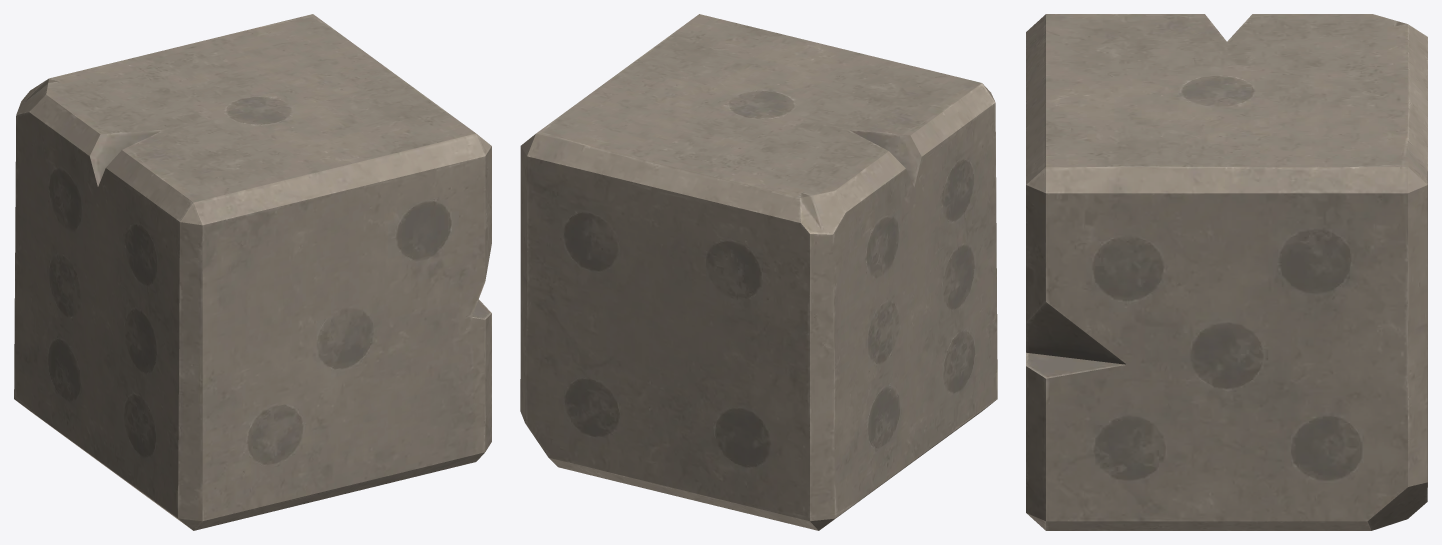
The model's file is dice-stone.glb.
The picture shows the model from 3 angles, left to right: view 1: azimuth 30°, elevation 25°; view 2: azimuth 150°, elevation 25°; view 3: azimuth 270°, elevation 25°; orthographic projection. The views are drawn at different scales.
Parts seen in each view (by area): view 1: DiceStone.LP; view 2: DiceStone.LP; view 3: DiceStone.LP.
Part boxes in pixels (x1=…): DiceStone.LP: x1=14, y1=14, x2=491, y2=530; DiceStone.LP: x1=520, y1=14, x2=997, y2=530; DiceStone.LP: x1=1026, y1=14, x2=1427, y2=530.
Bounding box in the file's own units: 2 × 2 × 2.
1 material, 1 textured.
